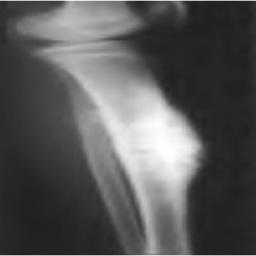cancer: (91, 64, 201, 211)
